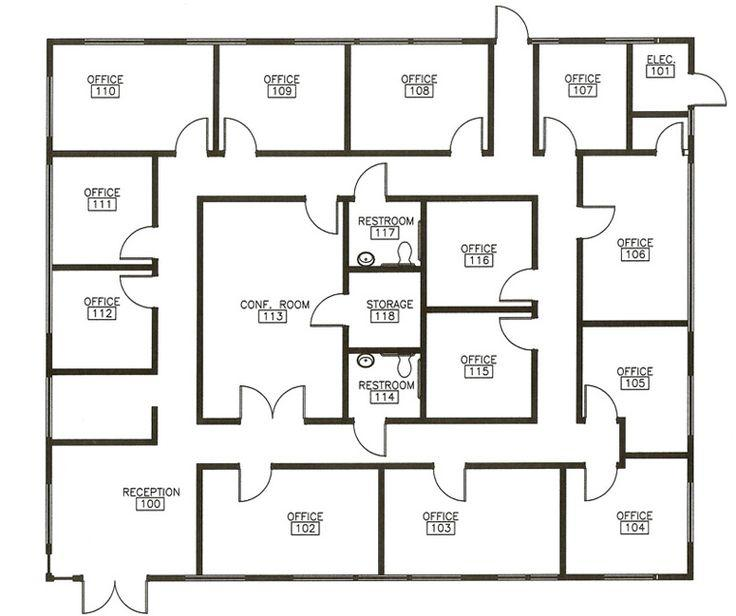room: (200, 198, 346, 420), (49, 442, 199, 578), (381, 466, 562, 578), (200, 465, 381, 577), (579, 151, 691, 323), (49, 41, 216, 154), (348, 41, 492, 153), (215, 41, 347, 154), (581, 323, 689, 455), (563, 464, 691, 575), (423, 309, 536, 422), (423, 200, 536, 308), (49, 153, 155, 268), (49, 267, 155, 372), (537, 41, 629, 152), (631, 41, 693, 113), (630, 112, 692, 153)
